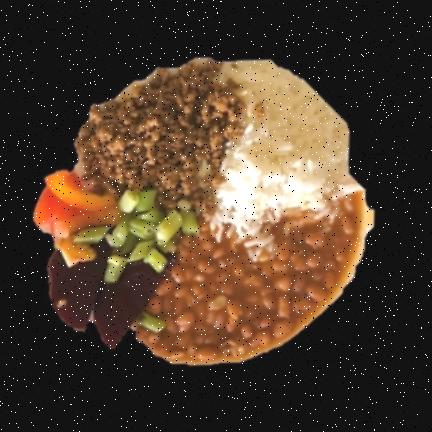beans: (136, 194, 361, 364)
beet: (49, 239, 175, 348)
green_vegetables: (112, 190, 198, 271)
meat: (75, 61, 243, 217)
rice: (212, 61, 361, 238)
tomato: (34, 172, 124, 238)
